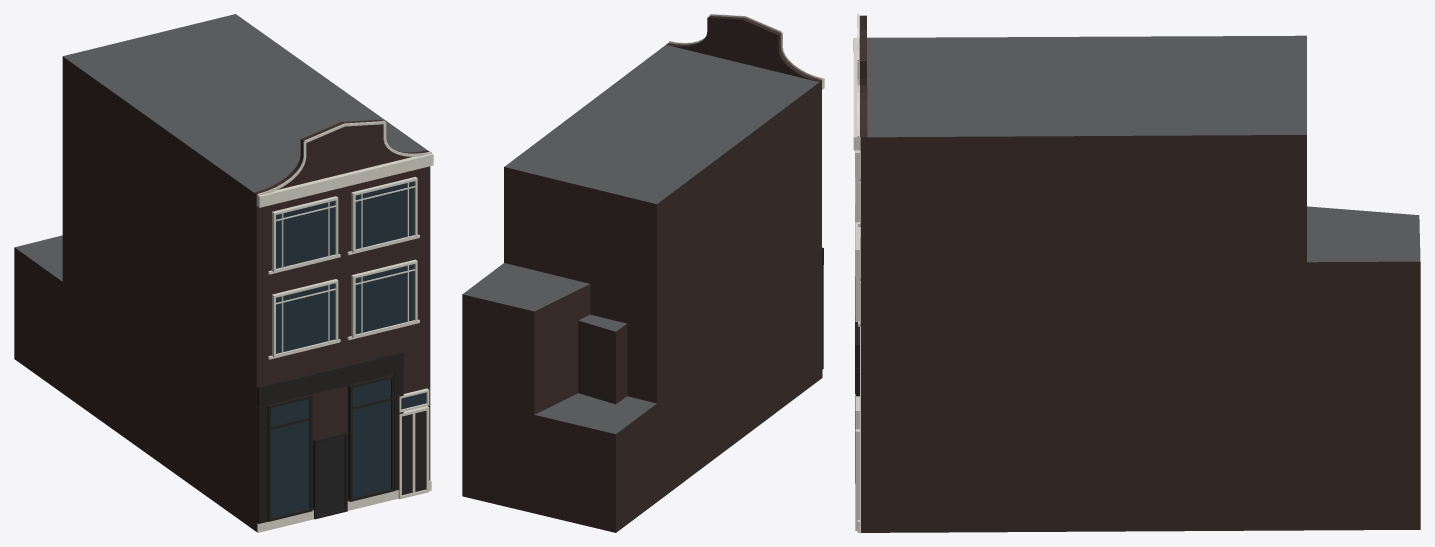
The picture shows the model from 3 angles, left to right: view 1: azimuth 30°, elevation 25°; view 2: azimuth 150°, elevation 25°; view 3: azimuth 270°, elevation 25°; orthographic projection. The views are drawn at different scales.
Parts seen in each view (by area): view 1: spec-0363100012169539; view 2: spec-0363100012169539; view 3: spec-0363100012169539.
Part boxes in pixels (box(x1,y1,x2,y2)): spec-0363100012169539: box(14, 14, 433, 532); spec-0363100012169539: box(462, 14, 824, 532); spec-0363100012169539: box(853, 14, 1420, 532).
Bounding box in the file's own units: 5.95 × 12.36 × 13.96.
